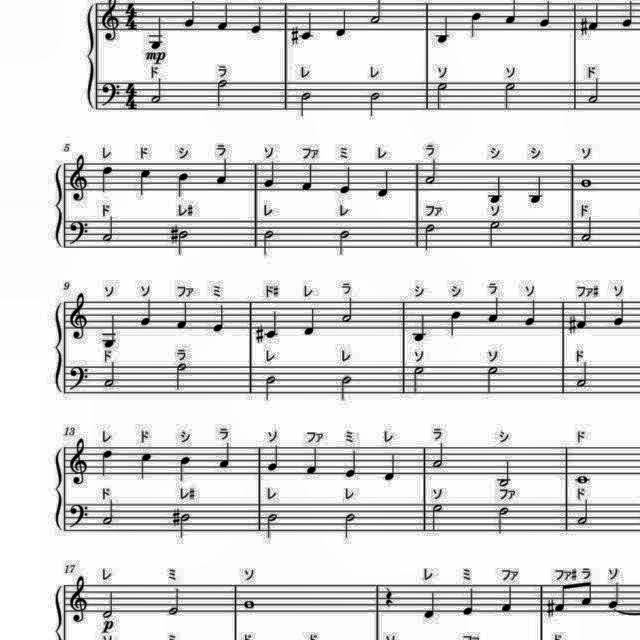Bass-clef: (98, 76, 122, 116), (65, 218, 91, 250), (66, 500, 90, 532), (66, 362, 90, 392)
Diez: (568, 310, 580, 338), (544, 596, 556, 620), (254, 324, 266, 346), (170, 506, 182, 528), (578, 18, 590, 38), (290, 25, 300, 47), (168, 226, 180, 244)
Eighth-note: (579, 578, 595, 610), (553, 582, 567, 614)
Full-note: (574, 472, 594, 488), (577, 174, 595, 190), (242, 594, 258, 610)
Half-note: (485, 218, 507, 250), (100, 360, 122, 390), (578, 215, 600, 245), (499, 80, 521, 110), (494, 505, 514, 537), (262, 372, 282, 404), (410, 365, 430, 397), (146, 74, 166, 106), (296, 88, 316, 120), (582, 76, 602, 108), (432, 80, 450, 114), (495, 459, 515, 489), (572, 360, 592, 390), (422, 222, 442, 252), (99, 588, 117, 620), (483, 364, 501, 396), (171, 362, 191, 390), (259, 230, 279, 258), (338, 372, 356, 403), (368, 92, 387, 121), (166, 587, 184, 617), (428, 502, 446, 532), (339, 296, 357, 326), (100, 215, 116, 245), (422, 155, 438, 185), (264, 512, 280, 540), (342, 510, 358, 538), (574, 500, 590, 528), (430, 442, 446, 470), (176, 228, 192, 256), (216, 76, 230, 108), (338, 228, 352, 258), (100, 498, 114, 526), (178, 514, 192, 542)
Quarter-note: (146, 11, 168, 52), (99, 313, 119, 351), (337, 162, 359, 196), (433, 9, 452, 47), (486, 172, 506, 206), (210, 302, 230, 336), (534, 0, 558, 28), (616, 0, 640, 28), (372, 167, 392, 200), (174, 298, 192, 334), (263, 308, 281, 344), (138, 448, 156, 484), (212, 156, 232, 188), (528, 174, 548, 206), (216, 440, 236, 472), (586, 2, 608, 30), (298, 11, 316, 45), (344, 446, 361, 482), (249, 0, 265, 36), (98, 162, 116, 194), (445, 308, 463, 340), (610, 296, 628, 328), (177, 454, 195, 486), (498, 582, 516, 614), (334, 5, 350, 40), (138, 296, 154, 330), (409, 314, 426, 346), (522, 296, 538, 330), (576, 301, 592, 335), (605, 580, 623, 610), (182, 0, 198, 32), (215, 0, 231, 32), (136, 166, 152, 198), (300, 160, 316, 192), (304, 306, 320, 338), (98, 446, 114, 478), (266, 442, 282, 474), (305, 446, 321, 478), (382, 452, 398, 484), (422, 589, 438, 621), (460, 586, 476, 618), (175, 170, 193, 198), (260, 160, 278, 188), (466, 10, 482, 38), (485, 296, 501, 324)
Quarter-rest: (382, 582, 394, 610)
Treble-clef: (66, 152, 92, 205), (67, 436, 93, 488), (68, 290, 92, 344), (68, 574, 92, 626)
